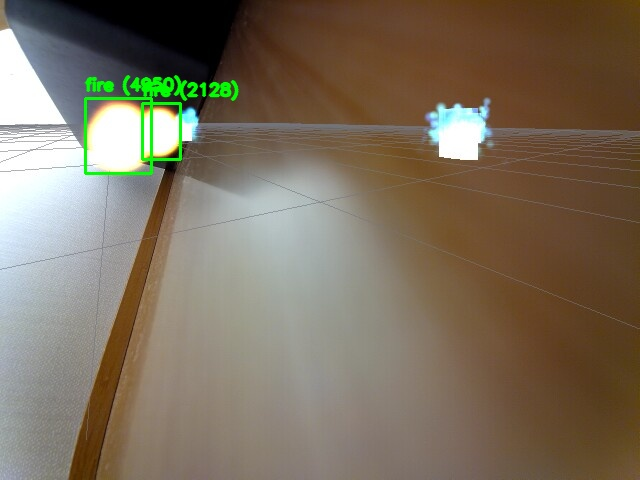fire: (85, 98, 151, 173), (142, 103, 180, 159)
